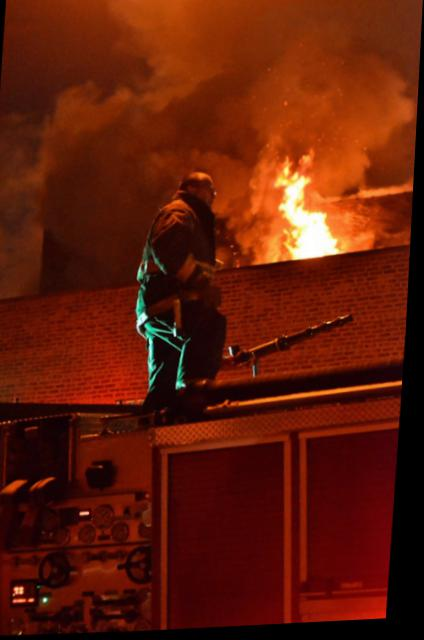fire: (269, 158, 361, 264)
